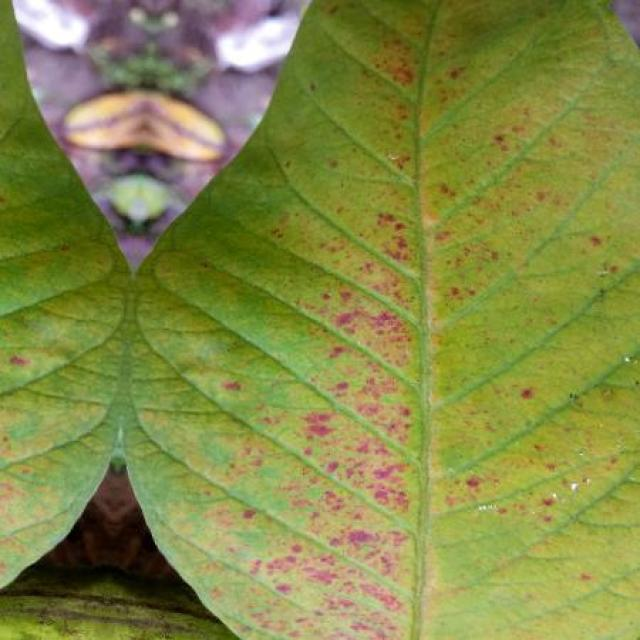Red Rust: (0, 0, 640, 640)
